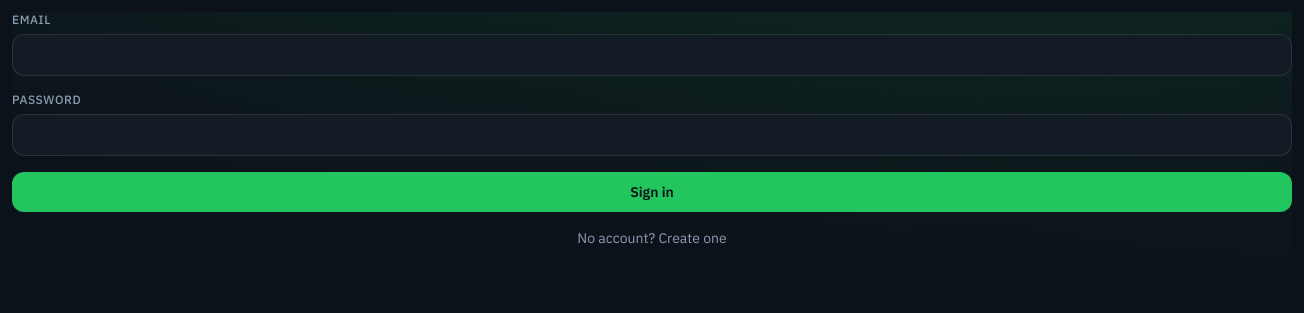
LoginForm › shows generic error for unknown failures
Step 1. Type "a@test.com" into the field labelled "Email" → point(652, 55), box top-left (12, 34), bottom-right (1292, 76)
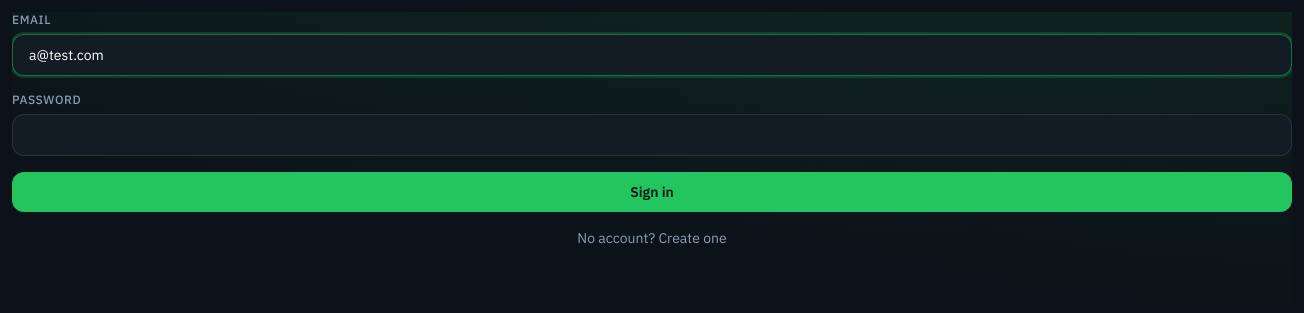
Step 2. Type "secret123" into the password field labelled "Password" → point(652, 135), box top-left (12, 114), bottom-right (1292, 156)
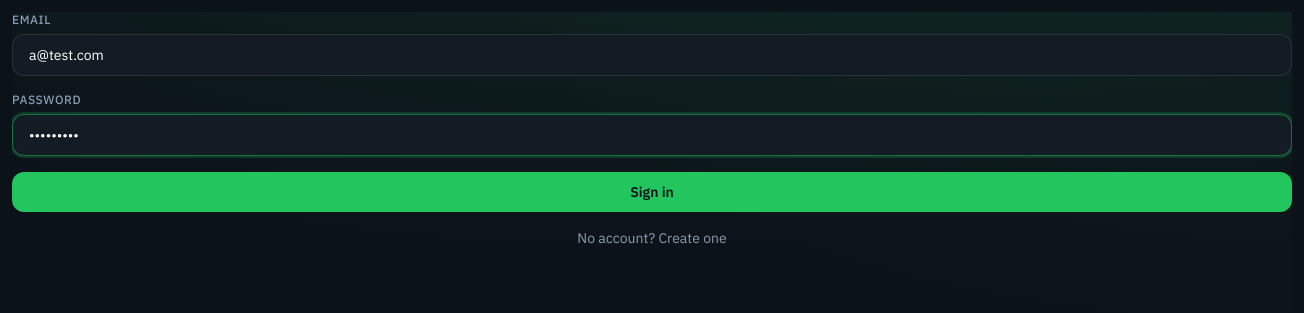
Step 3. Click the button "Sign in" → point(652, 192), box top-left (12, 172), bottom-right (1292, 212)
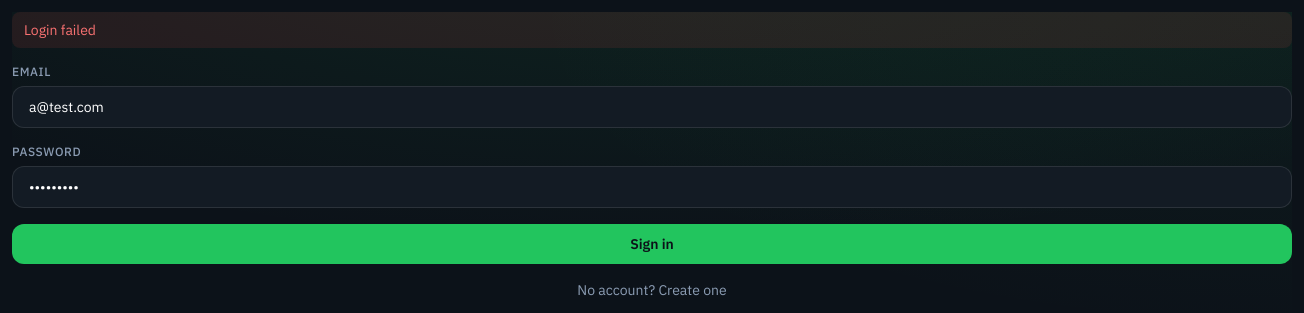
Result: the text "Login failed" is shown at top-left (12, 12), bottom-right (1292, 48)
